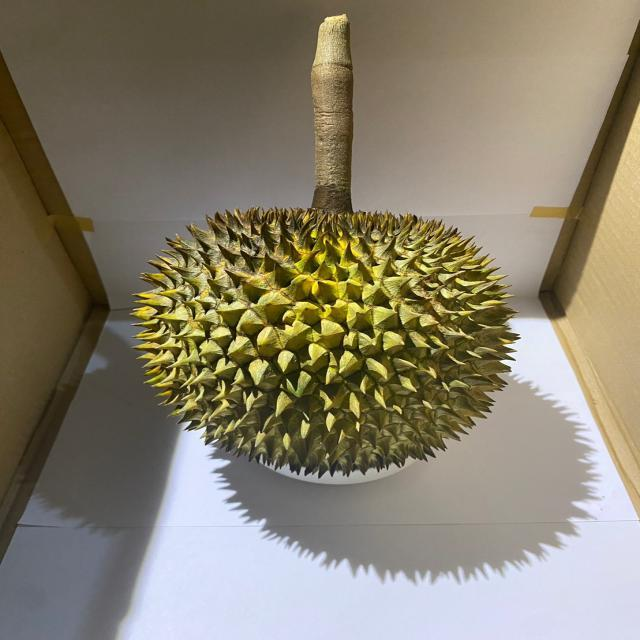immature: (126, 206, 523, 475)
